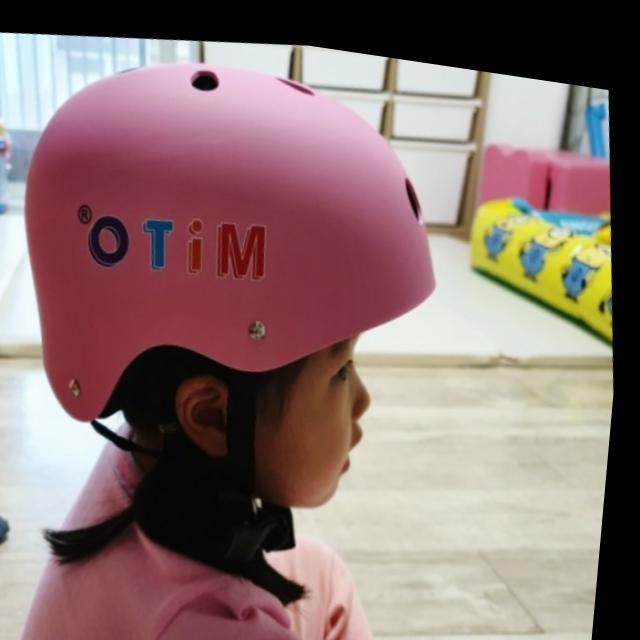Helmet: (22, 60, 437, 525)
